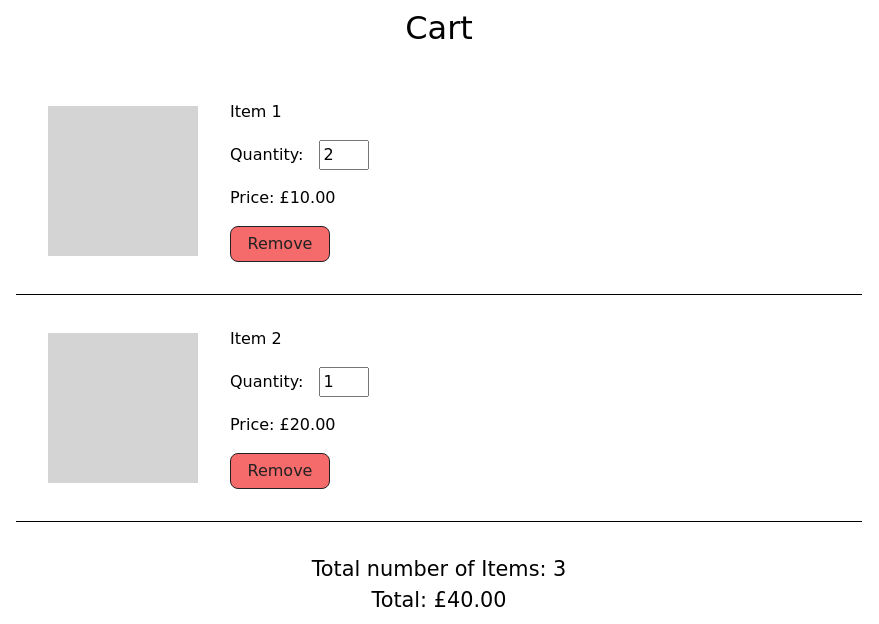
Test: ShoppingCart Component › shows an error message when quantity is set to less than 1
Replace the text in the number field with test id "quantity-input-cart" below "Item 1" with "0": (344, 155) [319, 140, 369, 170]
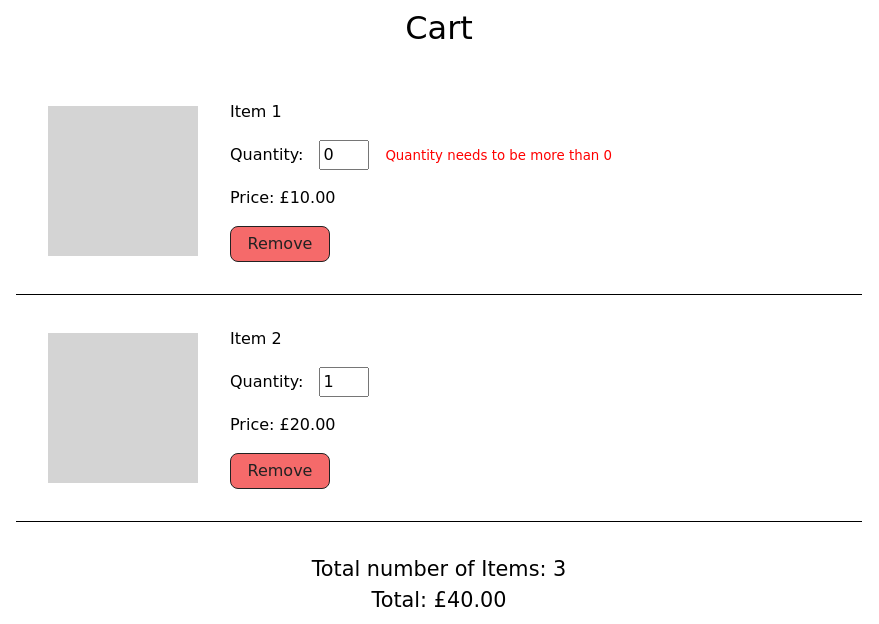
Expected: the text "Quantity needs to be more than 0" is shown, [369, 148, 612, 163]
